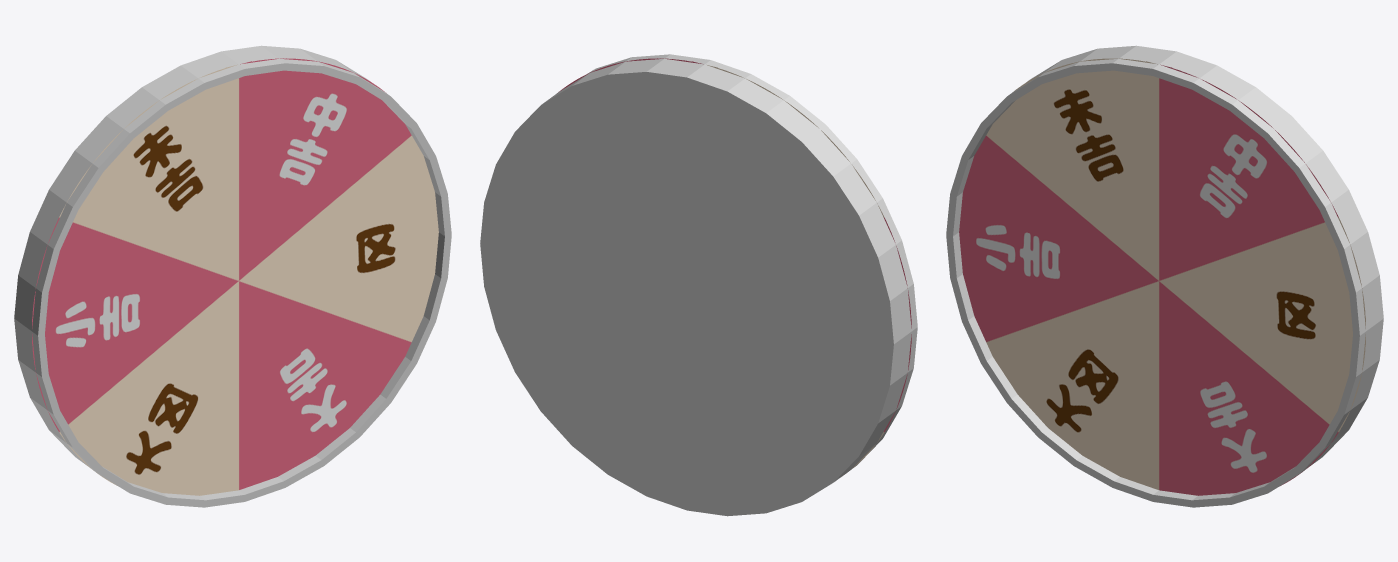
Rendered from ruretto1.fbx.
3 renders of one model, left to right at view 1: azimuth 30°, elevation 25°; view 2: azimuth 150°, elevation 25°; view 3: azimuth 330°, elevation 25°, orthographic.
Visible parts, largest first — view 1: roulette, 円柱; view 2: 円柱, roulette; view 3: roulette, 円柱.
Boxes of the visible parts, bbox=[...] form: roulette: bbox=[32, 58, 438, 495]; 円柱: bbox=[14, 45, 451, 507]; 円柱: bbox=[480, 54, 917, 516]; roulette: bbox=[559, 58, 911, 476]; roulette: bbox=[959, 58, 1365, 495]; 円柱: bbox=[946, 45, 1383, 507].
Size of the model in its own units: 2000 by 2000 by 200.
